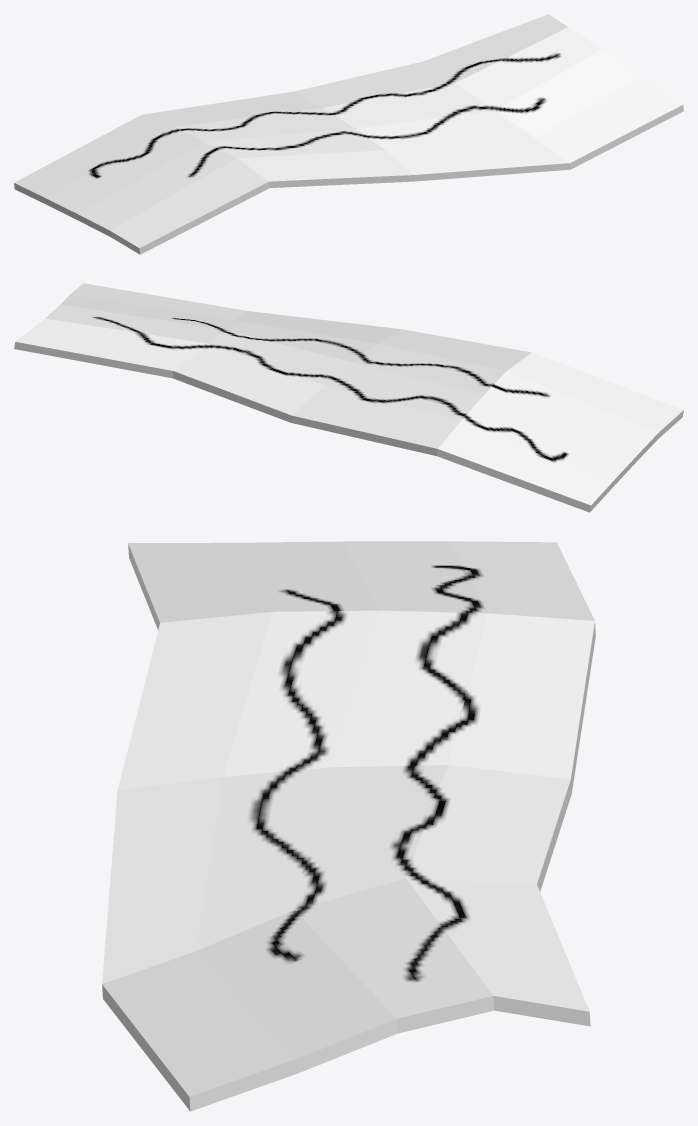
File: fortune.fbx
3 views of the same model, one above another, from view 1: azimuth 30°, elevation 25°; view 2: azimuth 150°, elevation 25°; view 3: azimuth 270°, elevation 25° (orthographic). The views are drawn at different scales.
Visible parts, largest first — view 1: Plane; view 2: Plane; view 3: Plane.
Part boxes in pixels (<box>): Plane: <box>14,14,683,254</box>; Plane: <box>14,283,683,512</box>; Plane: <box>102,541,595,1111</box>.
Bounding box in the file's own units: 309 × 26.2 × 114.
